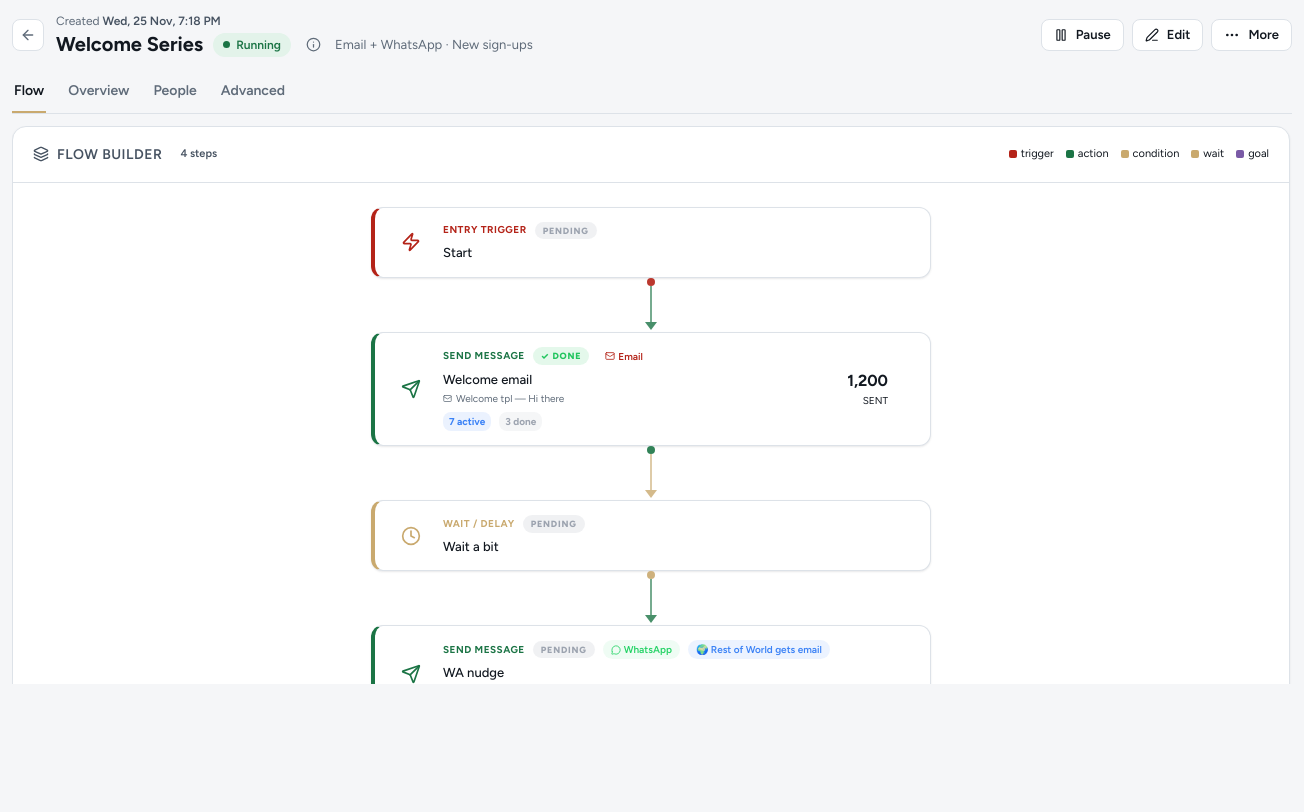
Test: Journey detail › numbers show "—" (not 0 or NaN) when the data is missing
This screenshot has width=1304, height=812.
Check: the heading "Welcome Series" is shown, box [56, 32, 203, 57]
Step 1. Click the tab "Overview" → (99, 91), box [66, 69, 131, 113]
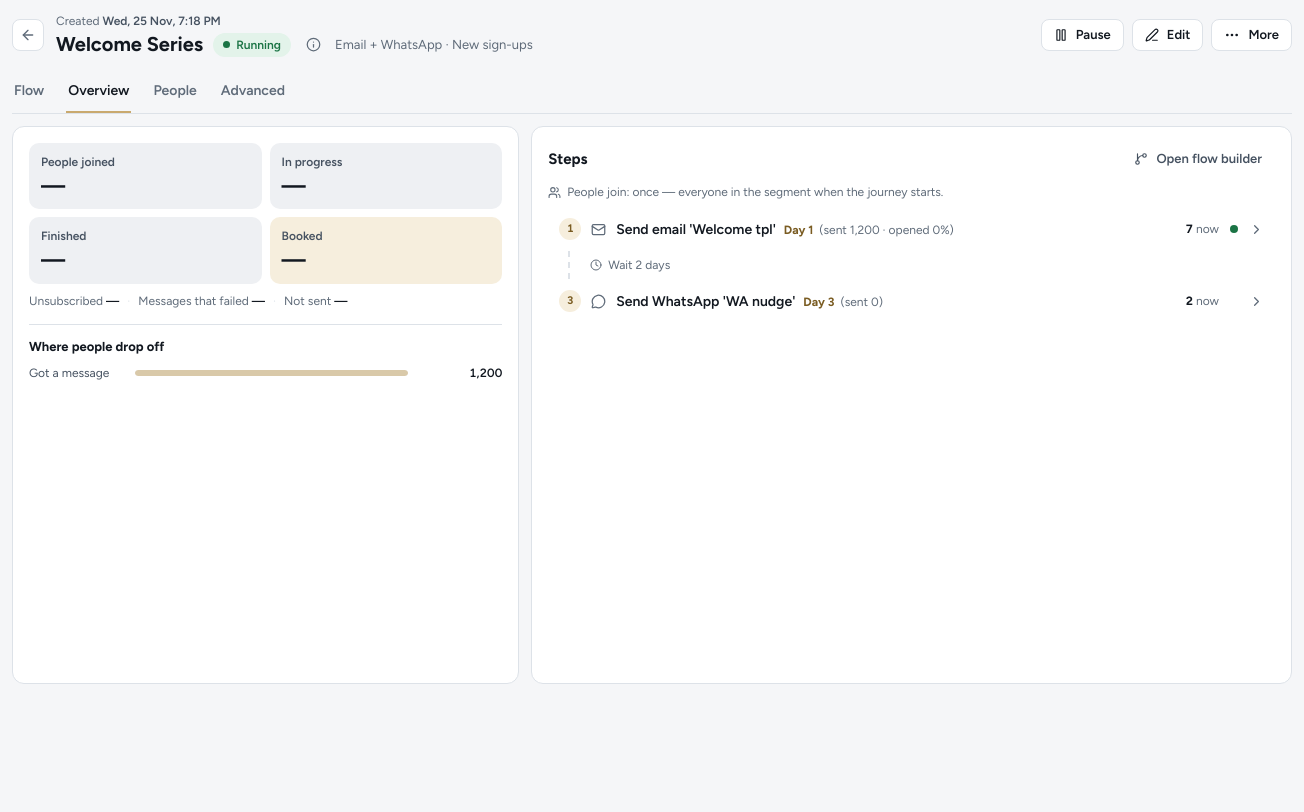
Check: the text "—" is shown 4 times, box [41, 172, 65, 199]; [282, 172, 306, 199]; [41, 246, 65, 273]; [282, 246, 306, 273]
Check: the text "Unsubscribed —" is shown, box [29, 292, 119, 310]
Check: the text "Messages that failed —" is shown, box [138, 292, 265, 310]
